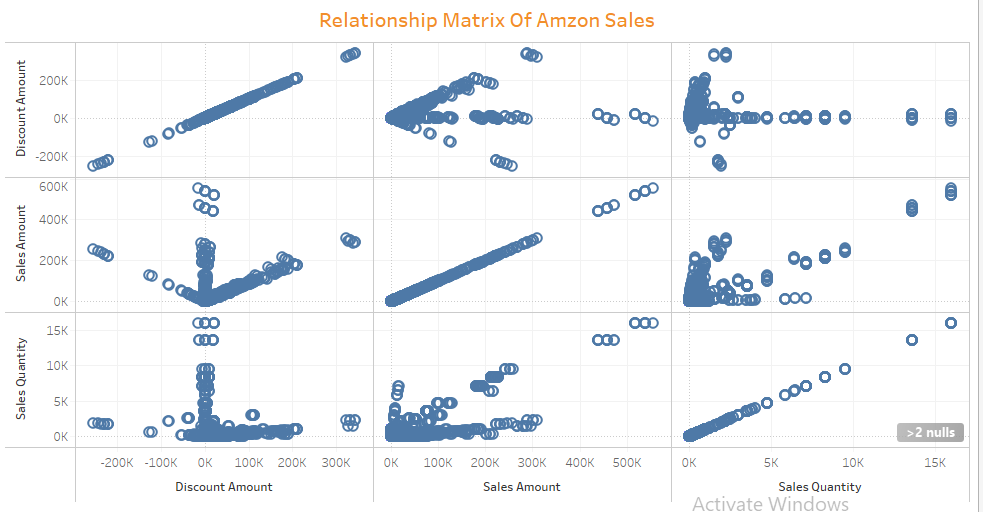

The dashboard page shown, as its layout file describes it:
{"tool":"tableau","page":{"name":"Dashboard 3","canvas":[1000,1000],"units":"permille","ordinal":2},"visuals":[{"type":"worksheet","title":"matrix","mark":"Automatic","rows":["Discount Amount","Sales Amount","Sales Quantity"],"cols":["Discount Amount","Sales Amount","Sales Quantity"],"box":[6.9,13.5,986.1,973]}]}

Visuals, with their boxes on the dashboard's canvas, which has no fixed pixel size, in thousandths of its width and height (x1, y1, x2, y2). These are canvas units, not pixel positions in the 983x512 screenshot, which may show the page scaled, cropped or inside an application window:
"matrix" worksheet: bbox=(7, 14, 993, 986)
